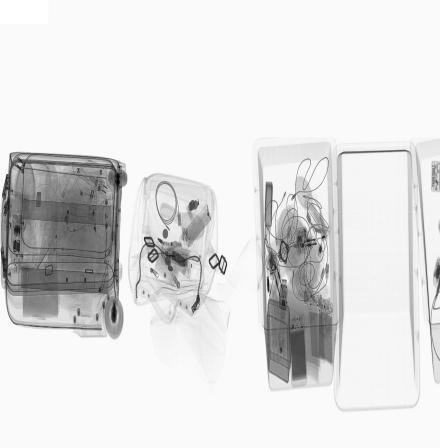Powerbank: (318, 296, 334, 367)
